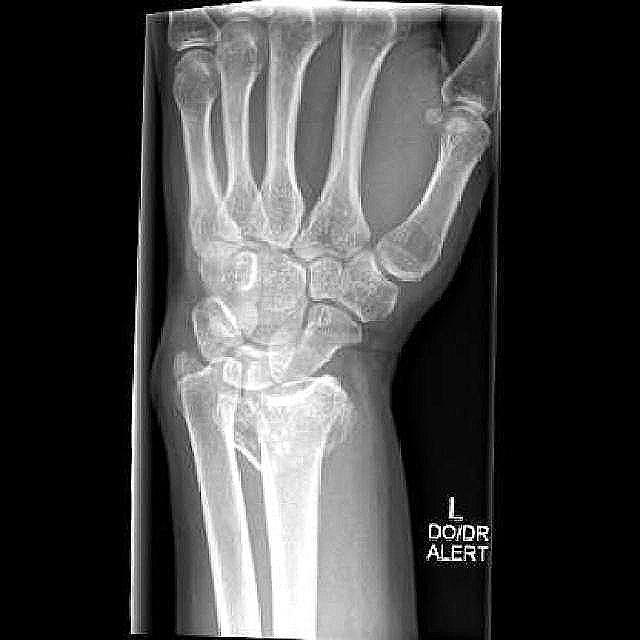bone: (228, 376, 361, 476)
